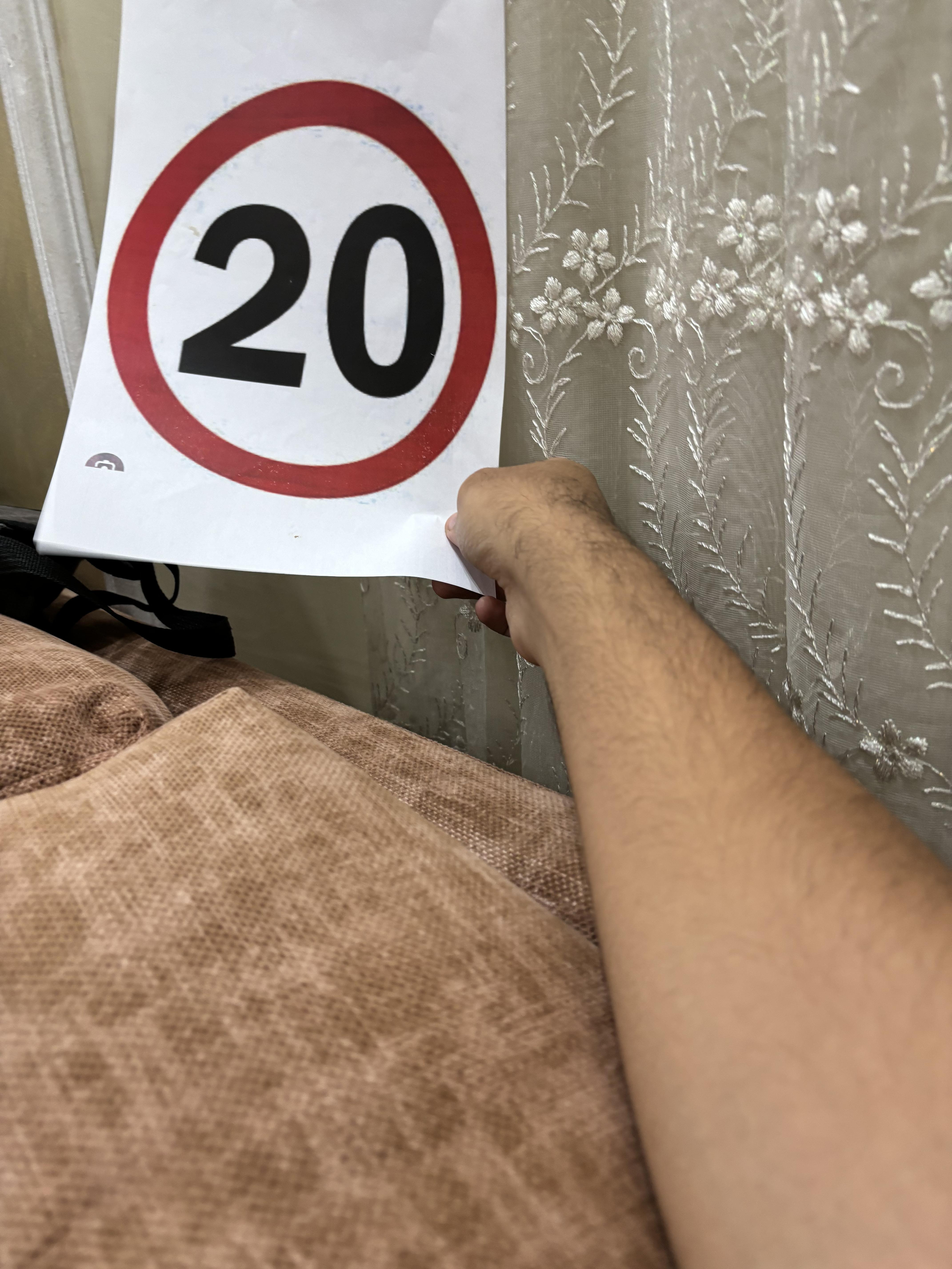20-Speed: (114, 65, 502, 484)
